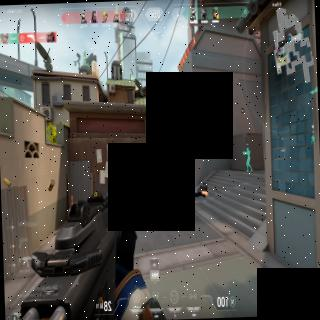ENEMY-HEAD: (158, 158, 160, 160)
